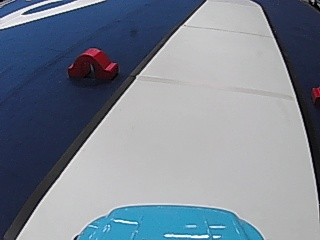bridge: (65, 45, 120, 82)
